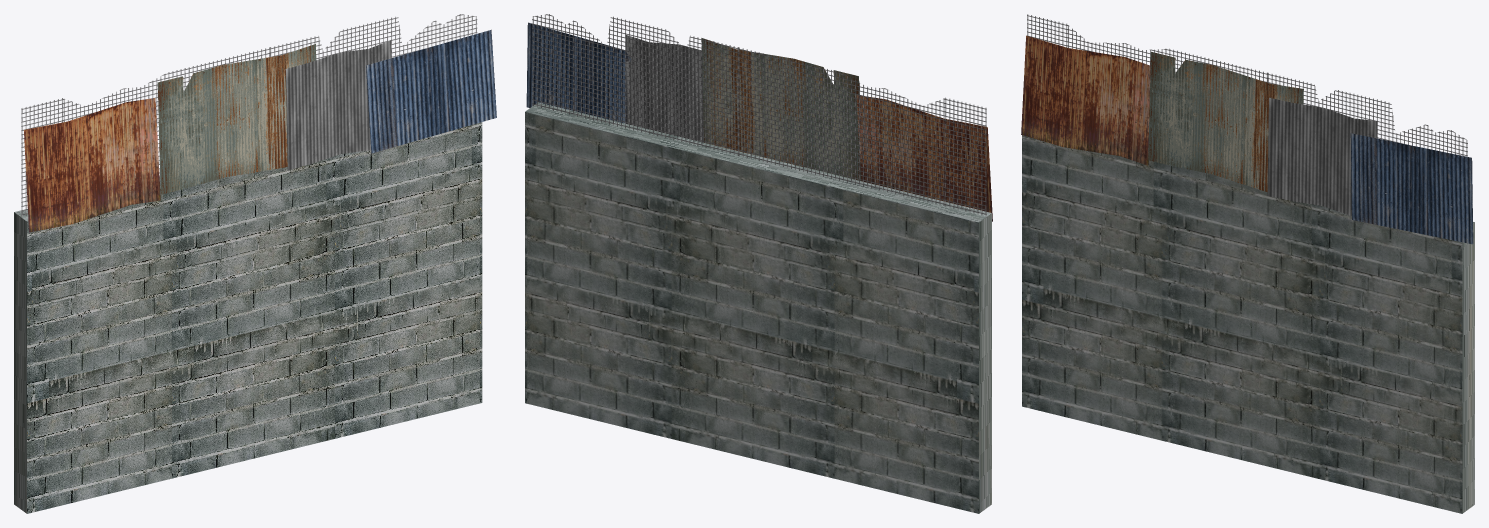
Rendered from Modular Block Wall Variant1.glb.
The picture shows the model from 3 angles, left to right: view 1: azimuth 30°, elevation 25°; view 2: azimuth 150°, elevation 25°; view 3: azimuth 330°, elevation 25°; orthographic projection. The views are drawn at different scales.
Visible parts, largest first — view 1: Hollowblock Wall, rusty metal 2, rusty metal, rusty metal 3, ROof 2, Screen, Screen.001, Screen.002; view 2: Hollowblock Wall, rusty metal 2, Screen.001, Screen, rusty metal, rusty metal 3, ROof 2, Screen.002; view 3: Hollowblock Wall, rusty metal 2, rusty metal, rusty metal 3, ROof 2, Screen, Screen.001, Screen.002.
Part boxes in pixels (x1=…): Hollowblock Wall: x1=14, y1=122, x2=482, y2=513; rusty metal 2: x1=157, y1=44, x2=316, y2=194; rusty metal: x1=24, y1=98, x2=160, y2=232; rusty metal 3: x1=366, y1=29, x2=496, y2=153; ROof 2: x1=285, y1=40, x2=391, y2=170; Screen: x1=268, y1=14, x2=477, y2=59; Screen.001: x1=62, y1=47, x2=270, y2=181; Screen.002: x1=21, y1=98, x2=63, y2=216; Hollowblock Wall: x1=525, y1=102, x2=991, y2=513; rusty metal 2: x1=701, y1=38, x2=860, y2=180; Screen.001: x1=738, y1=47, x2=945, y2=205; Screen: x1=532, y1=14, x2=739, y2=155; rusty metal: x1=856, y1=95, x2=992, y2=221; rusty metal 3: x1=526, y1=22, x2=631, y2=123; ROof 2: x1=626, y1=35, x2=704, y2=142; Screen.002: x1=944, y1=97, x2=986, y2=215; Hollowblock Wall: x1=1022, y1=135, x2=1474, y2=513; rusty metal 2: x1=1148, y1=51, x2=1303, y2=192; rusty metal: x1=1021, y1=35, x2=1150, y2=165; rusty metal 3: x1=1350, y1=133, x2=1473, y2=244; ROof 2: x1=1267, y1=98, x2=1377, y2=216; Screen: x1=1266, y1=73, x2=1467, y2=156; Screen.001: x1=1066, y1=25, x2=1267, y2=82; Screen.002: x1=1027, y1=14, x2=1067, y2=47.
Bounding box in the file's own units: 10.43 × 8.55 × 0.63.
Materials: 6 (6 with a texture image).
